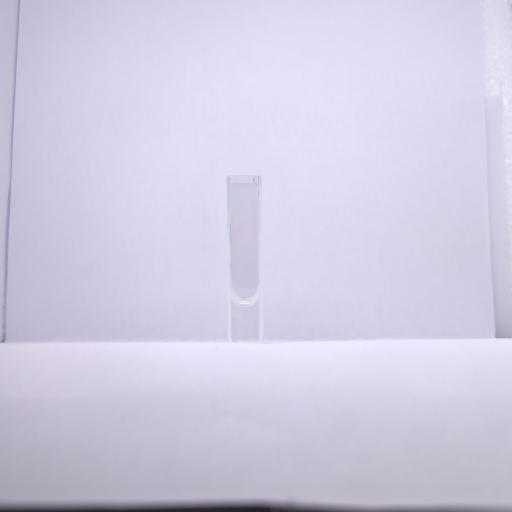cuvette: (225, 173, 266, 347)
liquid: (231, 296, 260, 341)
